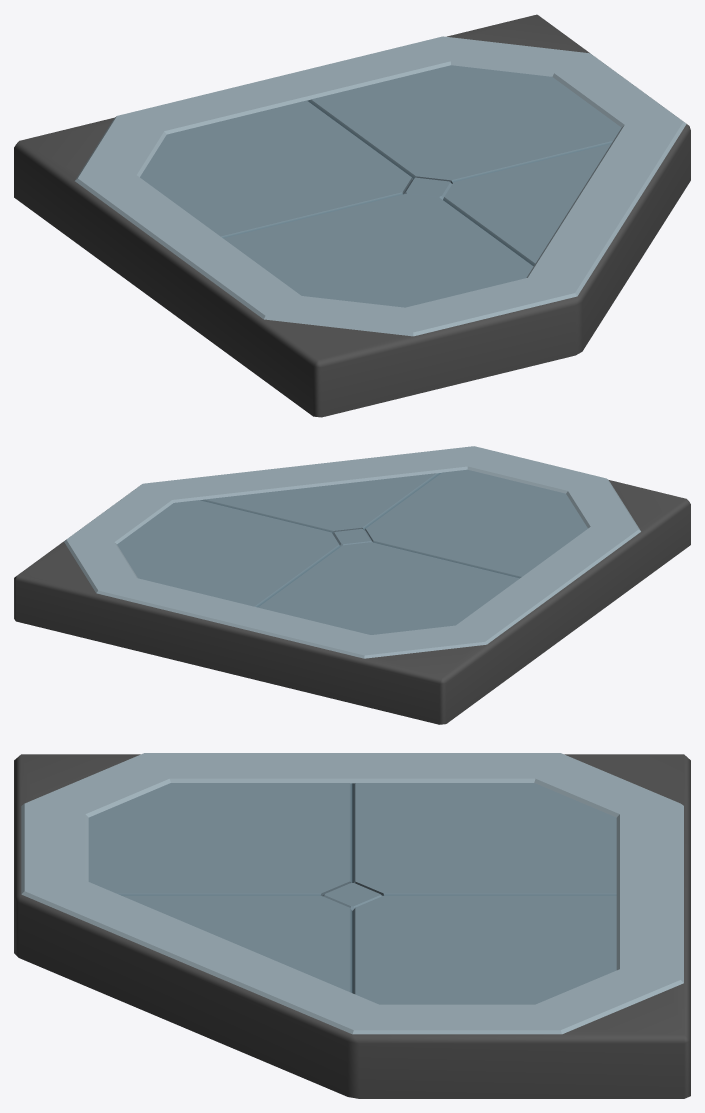
File: platform_002.fbx
3 renders of one model, top to bottom at view 1: azimuth 30°, elevation 25°; view 2: azimuth 150°, elevation 25°; view 3: azimuth 270°, elevation 25°, orthographic. The views are drawn at different scales.
Visible parts, largest first — view 1: platform_002; view 2: platform_002; view 3: platform_002.
Part boxes in pixels (x1,y1,x2,y2): platform_002: (14, 14, 690, 417); platform_002: (14, 446, 690, 724); platform_002: (14, 753, 690, 1098).
Bounding box in the file's own units: 1000 × 1000 × 105.
